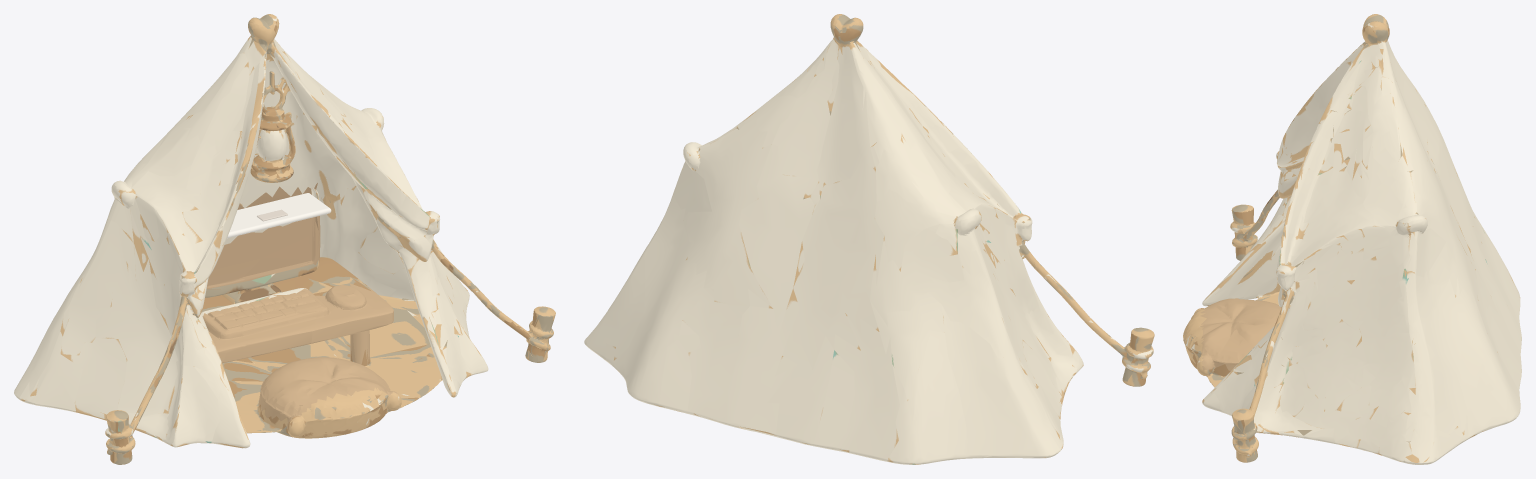
The model's file is tent-workstation-noise-clean-v1.glb.
3 views of the same model, side by side, from view 1: azimuth 30°, elevation 25°; view 2: azimuth 150°, elevation 25°; view 3: azimuth 270°, elevation 25° (orthographic). The views are drawn at different scales.
Parts seen in each view (by area): view 1: tent-workstation-flat-source-v4; view 2: tent-workstation-flat-source-v4; view 3: tent-workstation-flat-source-v4.
Part boxes in pixels (left/top/right/bottom): tent-workstation-flat-source-v4: left=14, top=14, right=555, bottom=464; tent-workstation-flat-source-v4: left=584, top=14, right=1154, bottom=464; tent-workstation-flat-source-v4: left=1183, top=14, right=1521, bottom=464.
Bounding box in the file's own units: 1.9 × 1.41 × 1.26.
5 materials, 1 textured.
